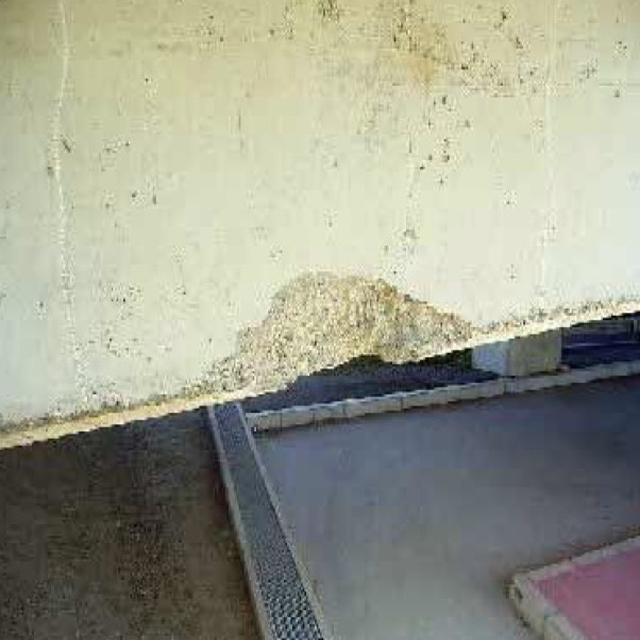spalling: (187, 239, 466, 414)
